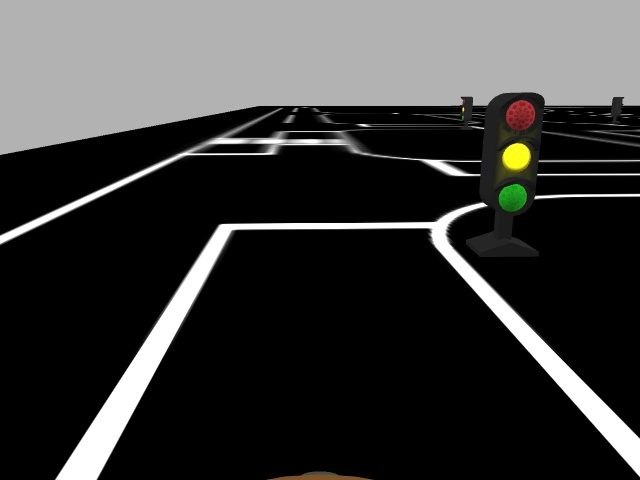yellow_light: (485, 91, 543, 215)
